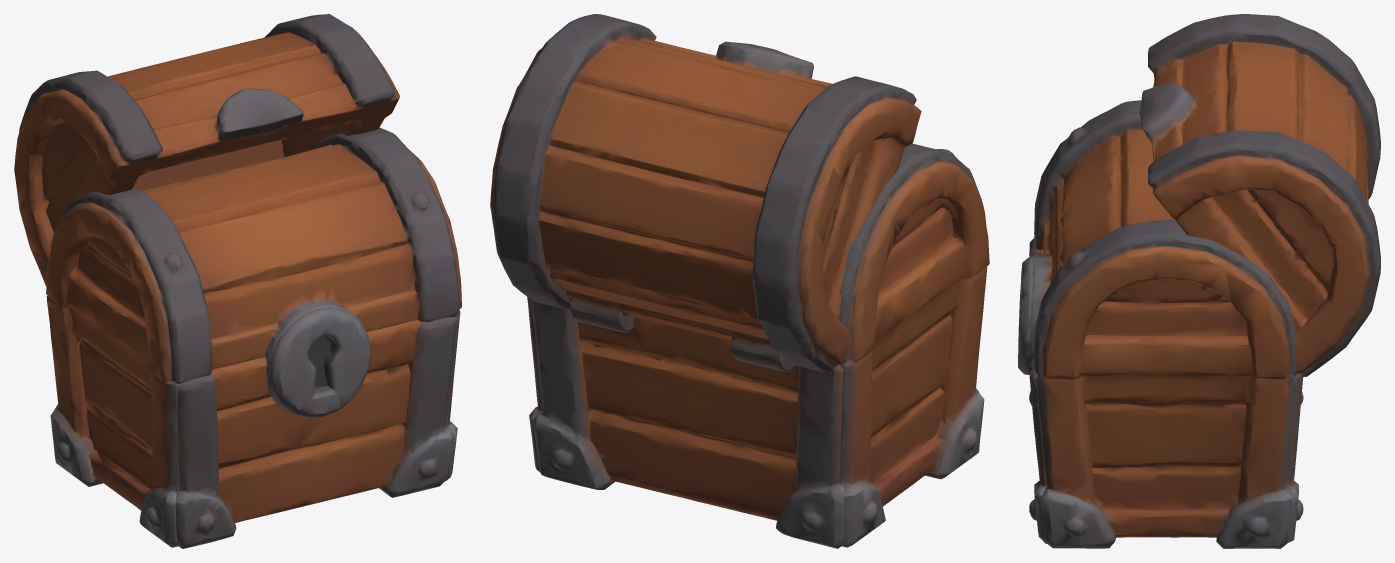
The model's file is ev_chest-BwYhPcdZ.glb.
3 renders of one model, left to right at view 1: azimuth 30°, elevation 25°; view 2: azimuth 150°, elevation 25°; view 3: azimuth 270°, elevation 25°, orthographic. The views are drawn at different scales.
Visible parts, largest first — view 1: chest_open, chest; view 2: chest_open, chest; view 3: chest, chest_open.
Boxes of the visible parts, x1,y1,x2,y2 form: chest_open: [14, 14, 456, 548]; chest: [46, 127, 461, 547]; chest_open: [490, 14, 979, 548]; chest: [527, 143, 989, 547]; chest: [1031, 100, 1297, 548]; chest_open: [1018, 14, 1380, 543].
Size of the model in its own units: 1.6 by 1.98 by 1.63.
Materials: 1 (1 with a texture image).
